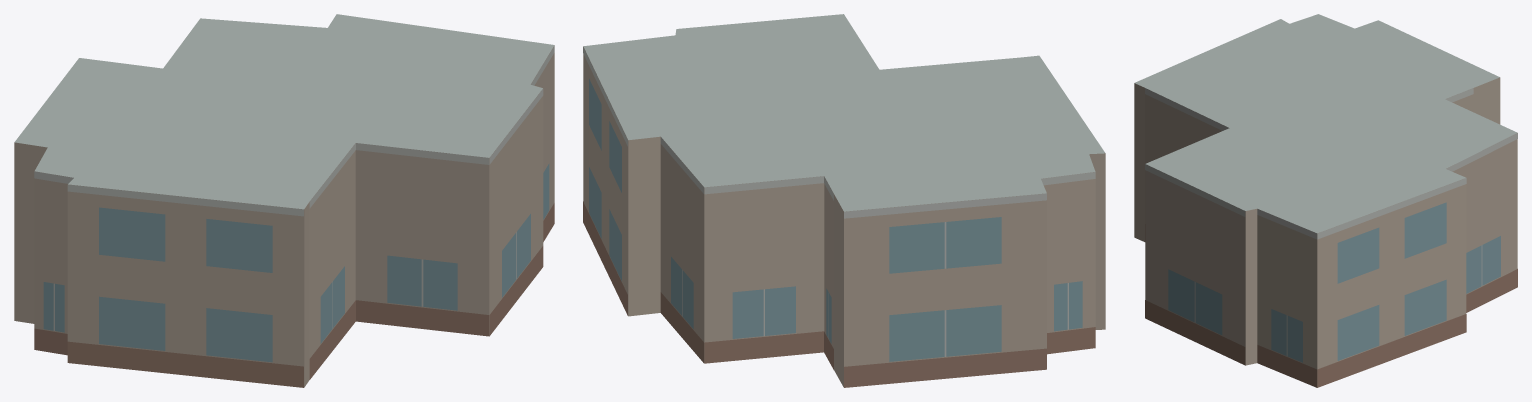
The model's file is survey-upis-32596688.glb.
3 views of the same model, side by side, from view 1: azimuth 30°, elevation 25°; view 2: azimuth 150°, elevation 25°; view 3: azimuth 270°, elevation 25° (orthographic). The views are drawn at different scales.
Parts seen in each view (by area): view 1: survey-upis-32596688.tmp; view 2: survey-upis-32596688.tmp; view 3: survey-upis-32596688.tmp.
Part boxes in pixels (x1,y1,x2,y2): survey-upis-32596688.tmp: [14, 14, 554, 387]; survey-upis-32596688.tmp: [583, 14, 1105, 387]; survey-upis-32596688.tmp: [1134, 14, 1517, 387].
Size of the model in its own units: 18.59 by 6.1 by 13.74.
